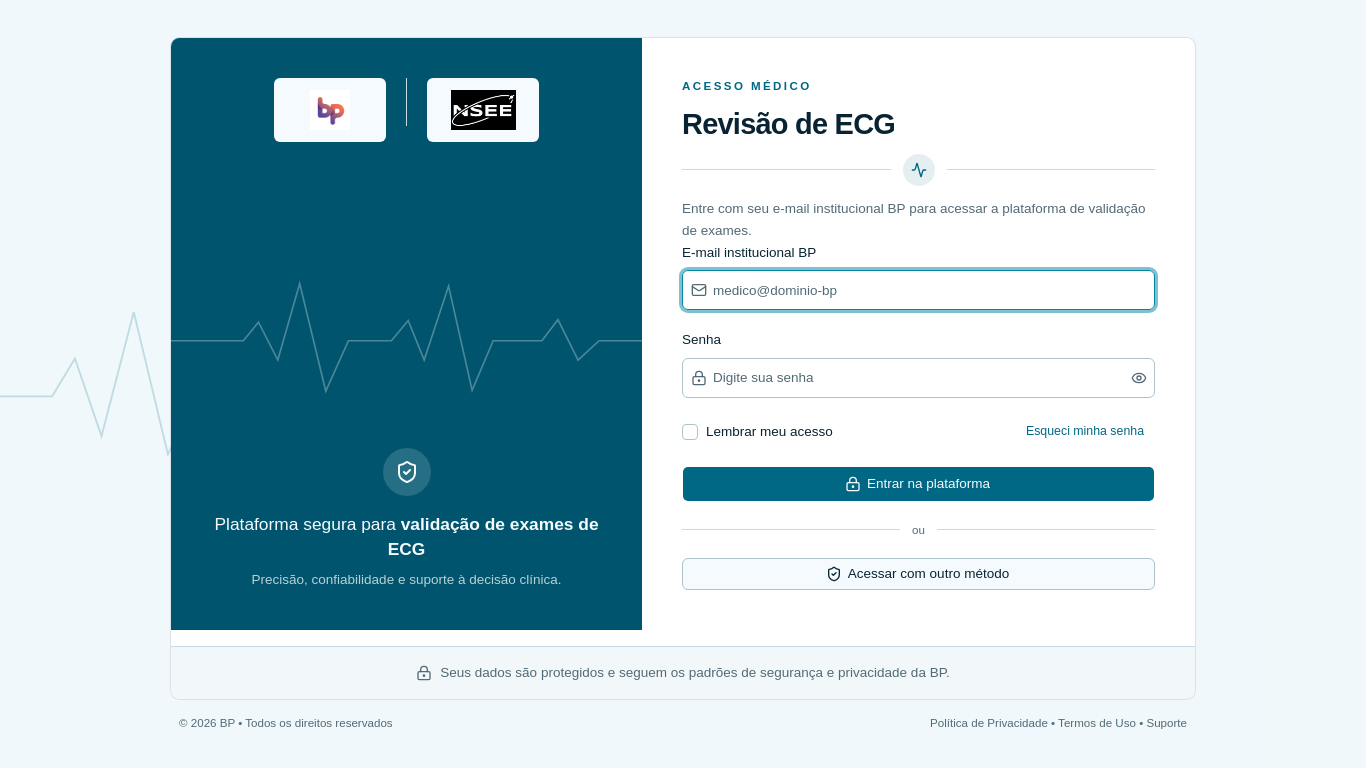
Scenario: LoginPage › anuncia o erro devolvido pela API em uma região live
Type "dr.joao" into the field labelled "E-mail institucional BP" at point(930, 290), box [707,274,1154,306]
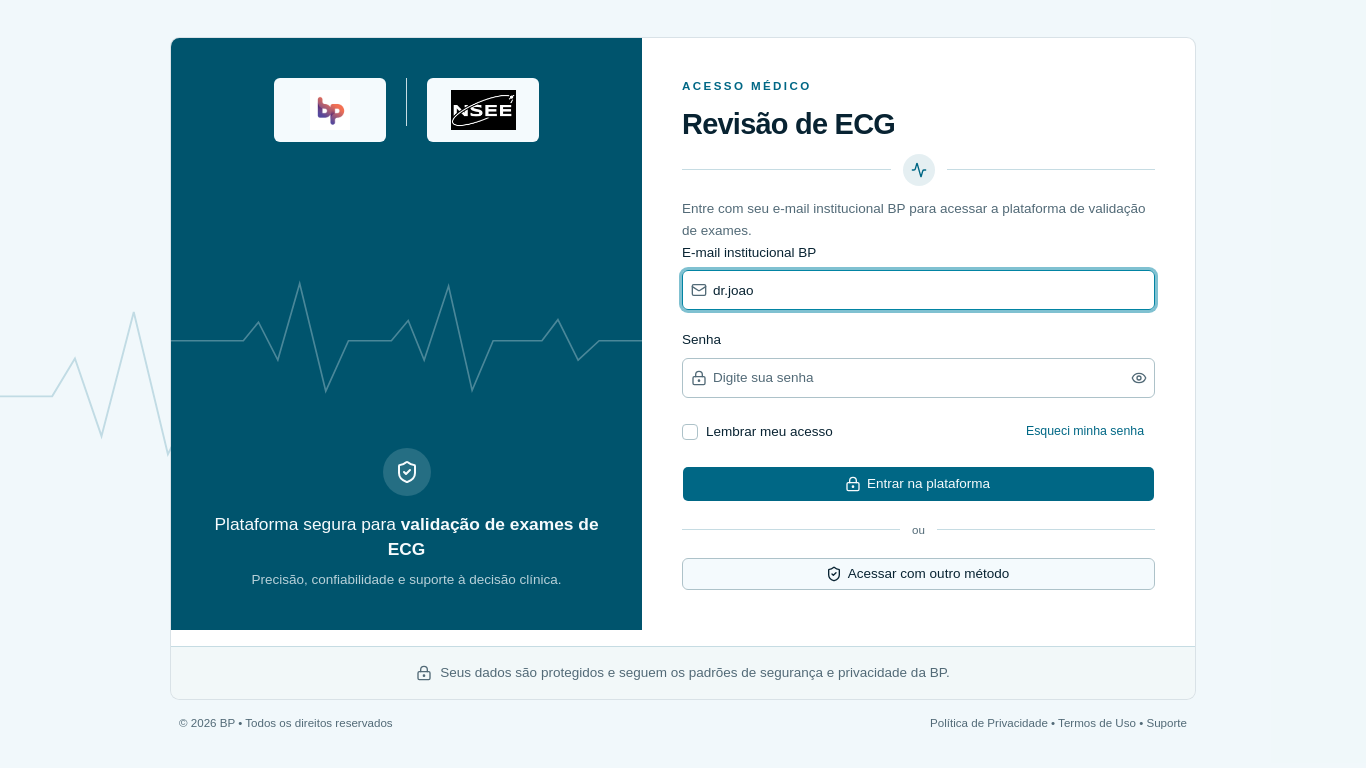
Type "segredo" into the password field labelled "Senha" at point(917, 378), box [707,362,1127,394]
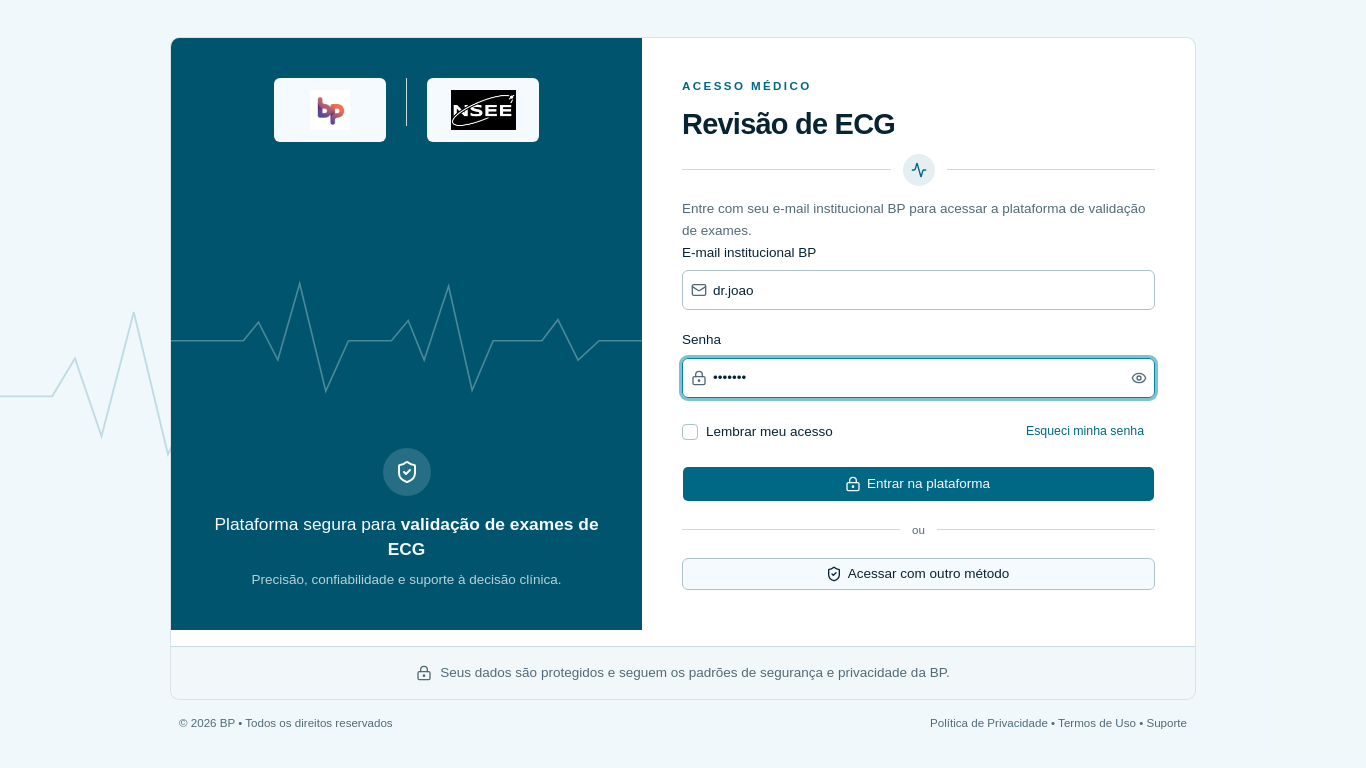
Click the button "Entrar na plataforma" at point(918, 484), box [682,466,1155,502]
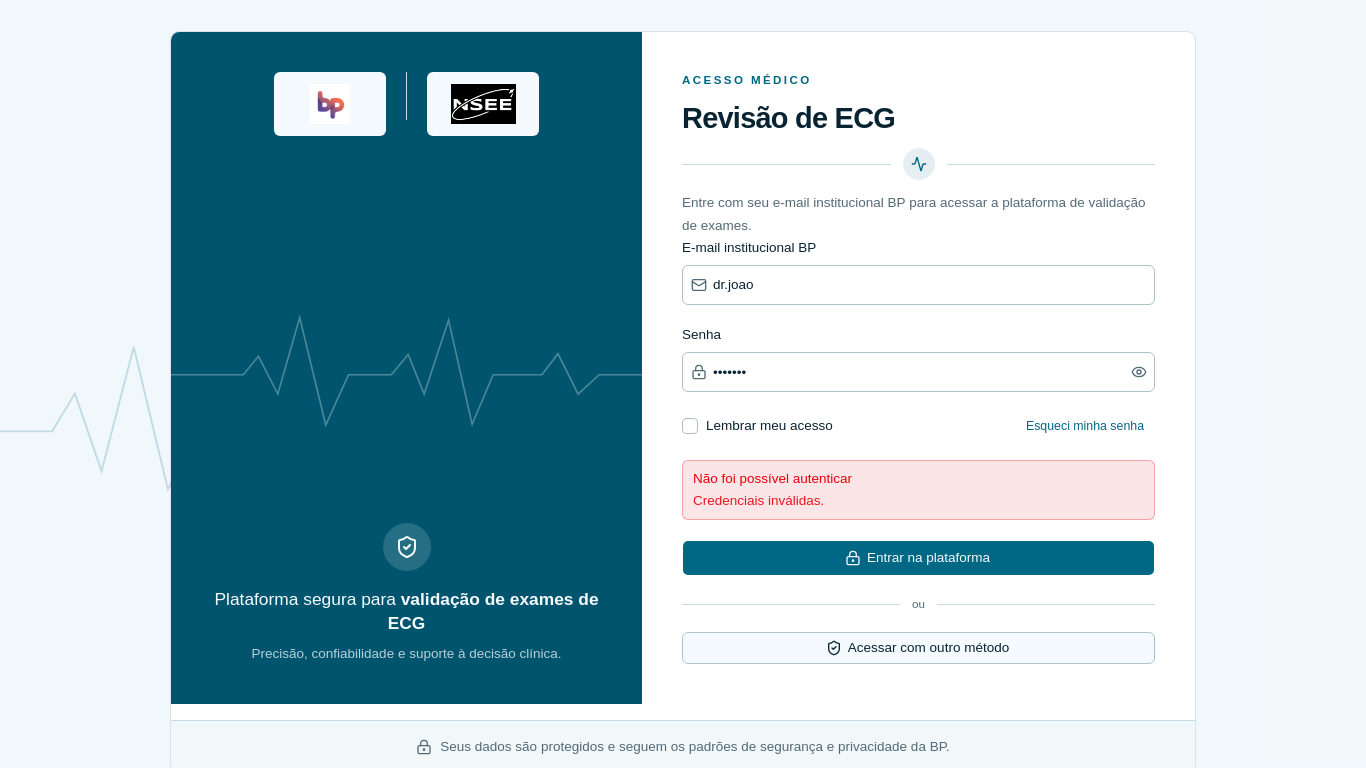
expect the text "Credenciais inválidas." is shown: met, box [693,493,824,508]
